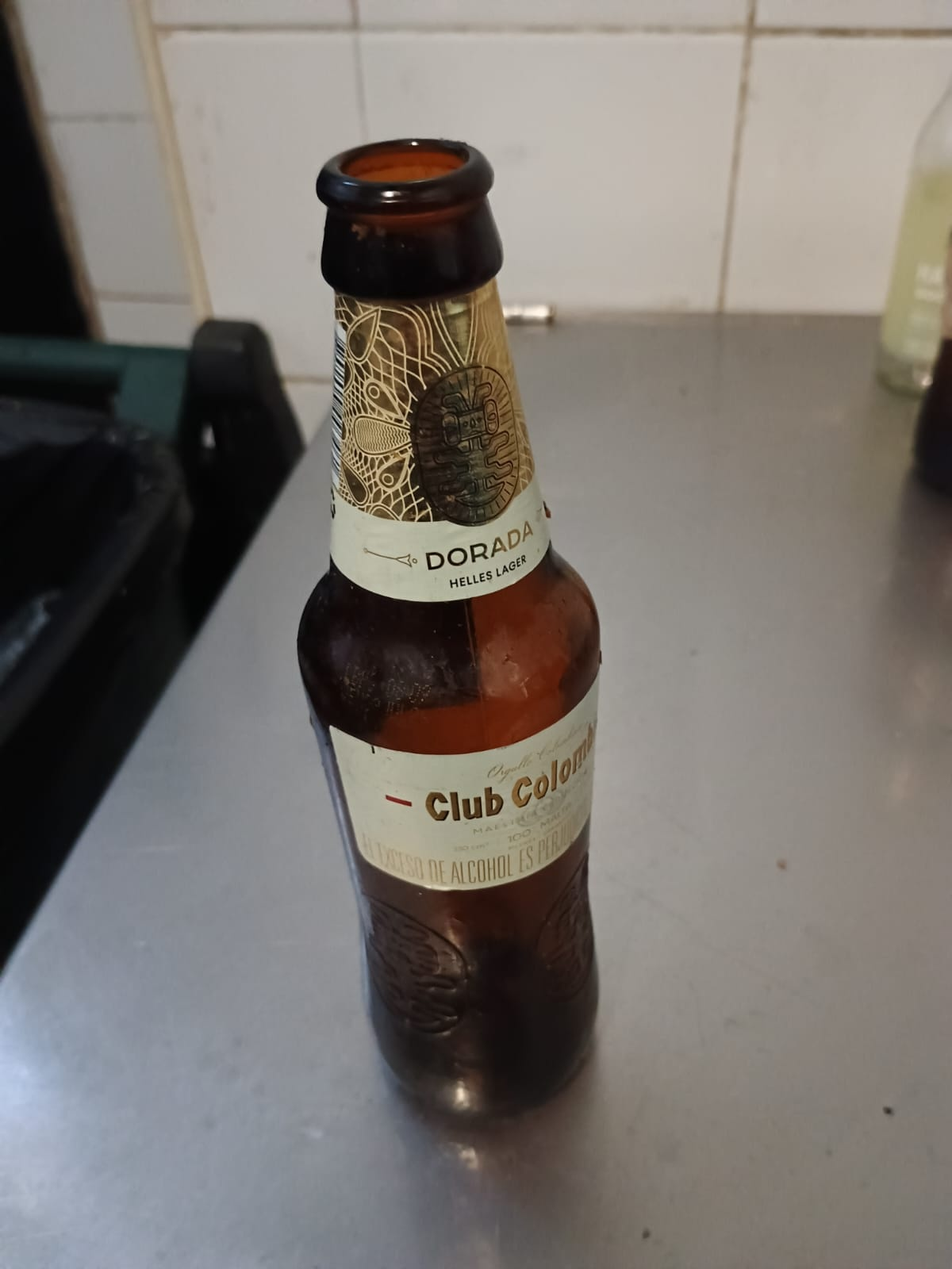Vidrio: (296, 136, 602, 1115)
